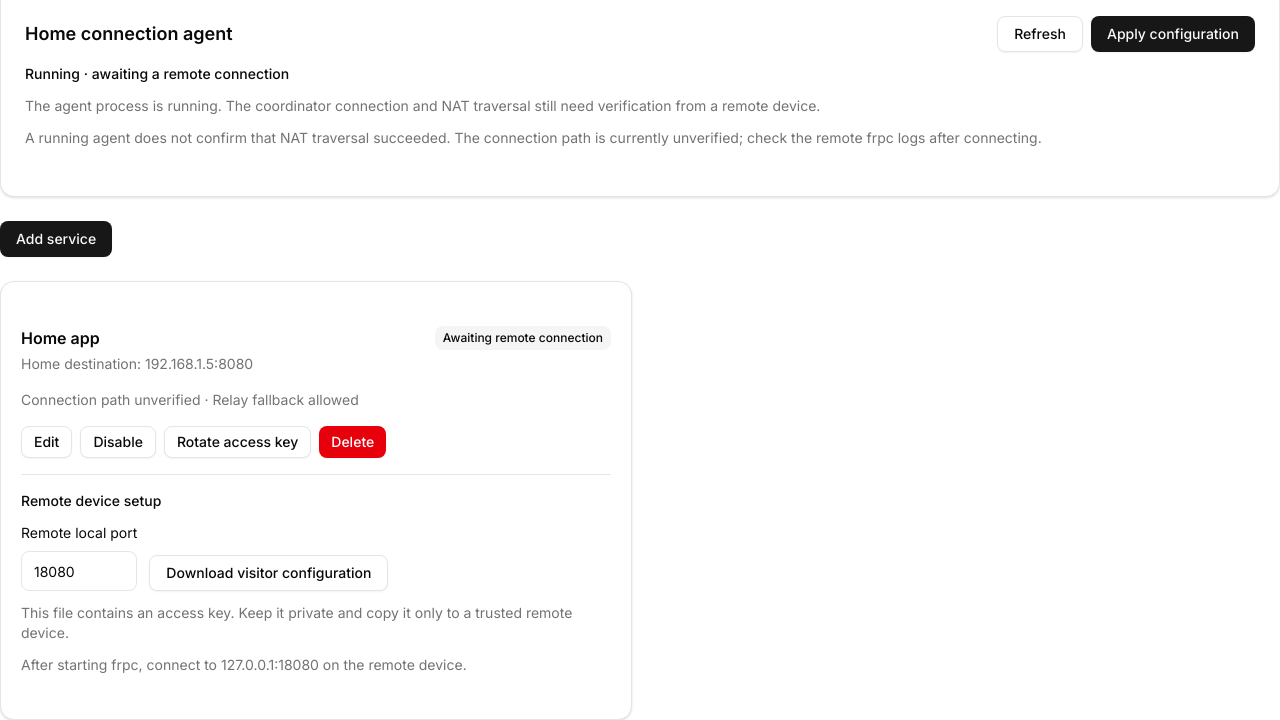
Test: private P2P service management › keeps edits and server errors visible if saving fails
The width and height of the screenshot is (1280, 720).
(page scrolled)
expect the heading "Home app" is shown: met, box top-left (21, 328), bottom-right (100, 348)
Click the button "Edit" at [47, 442], box top-left (21, 426), bottom-right (72, 458)
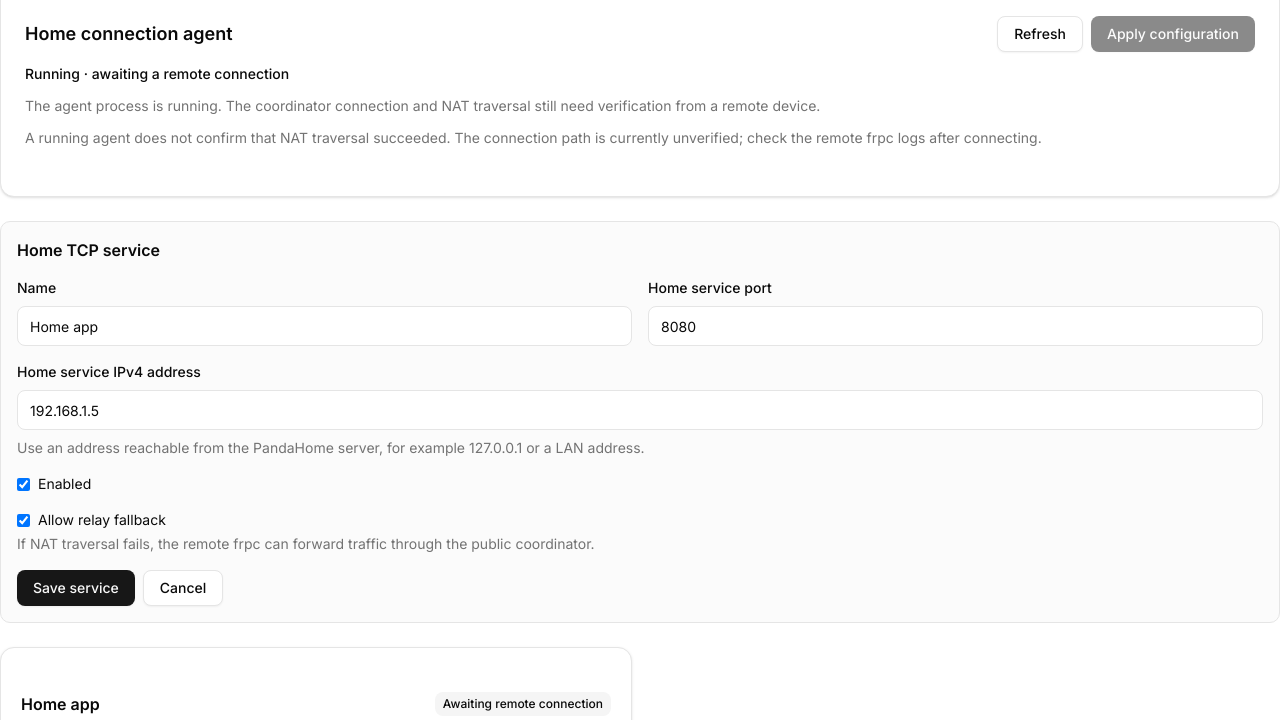
Replace the text in the field labelled "Name" with "Updated app" at [324, 326], box top-left (17, 306), bottom-right (632, 346)
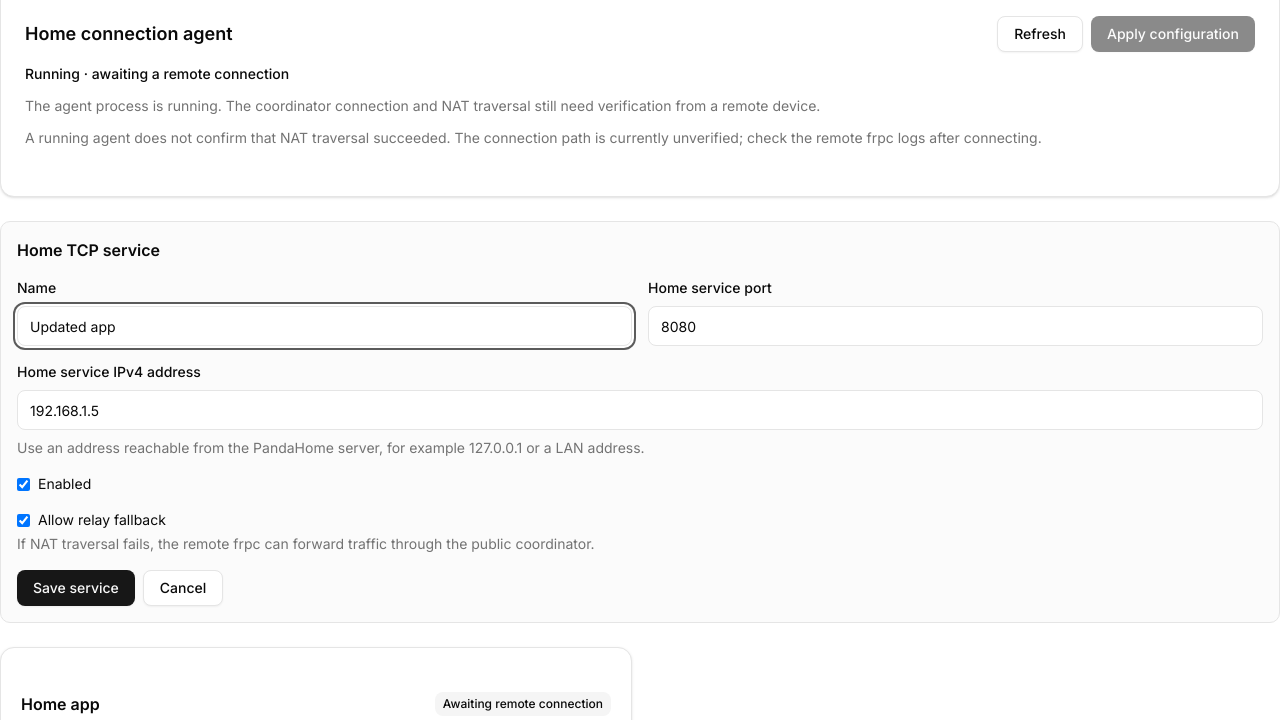
Click the button "Save service" at [76, 588], box top-left (17, 570), bottom-right (135, 606)
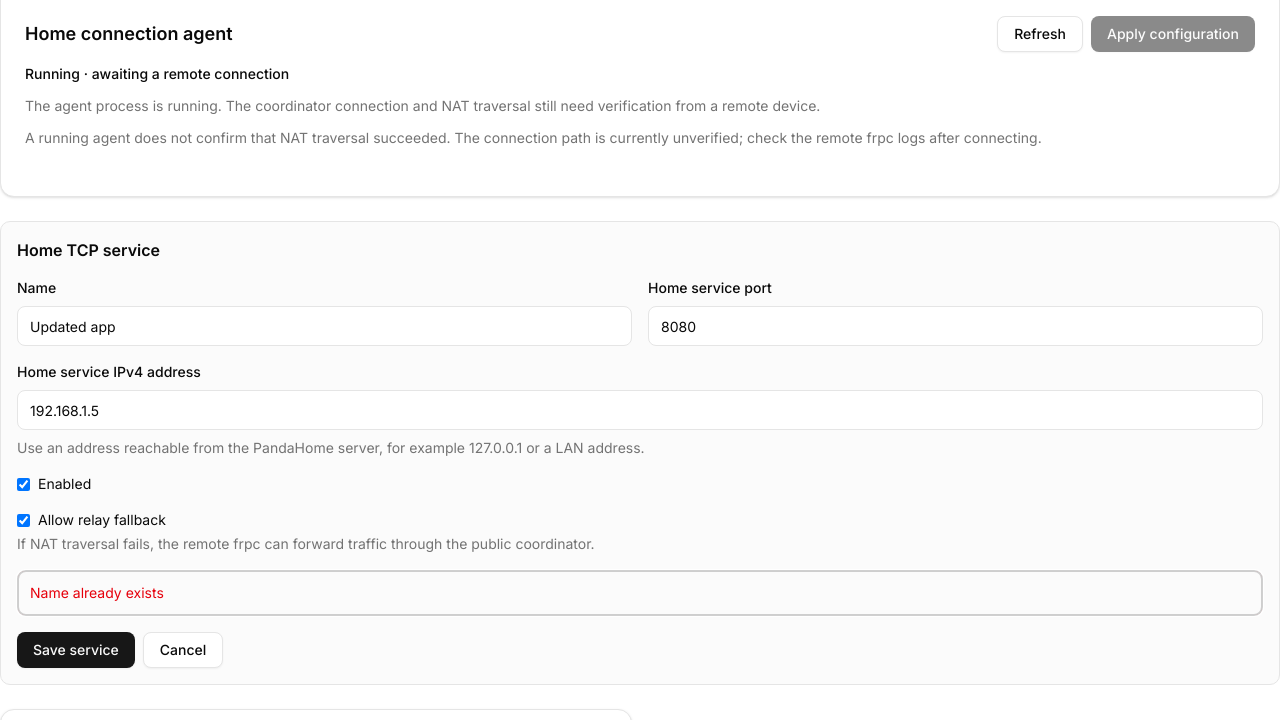
expect the message reads "Name already exists": met, box top-left (30, 584), bottom-right (164, 601)
Click the button "Cancel" at [183, 650], box top-left (143, 632), bottom-right (223, 668)
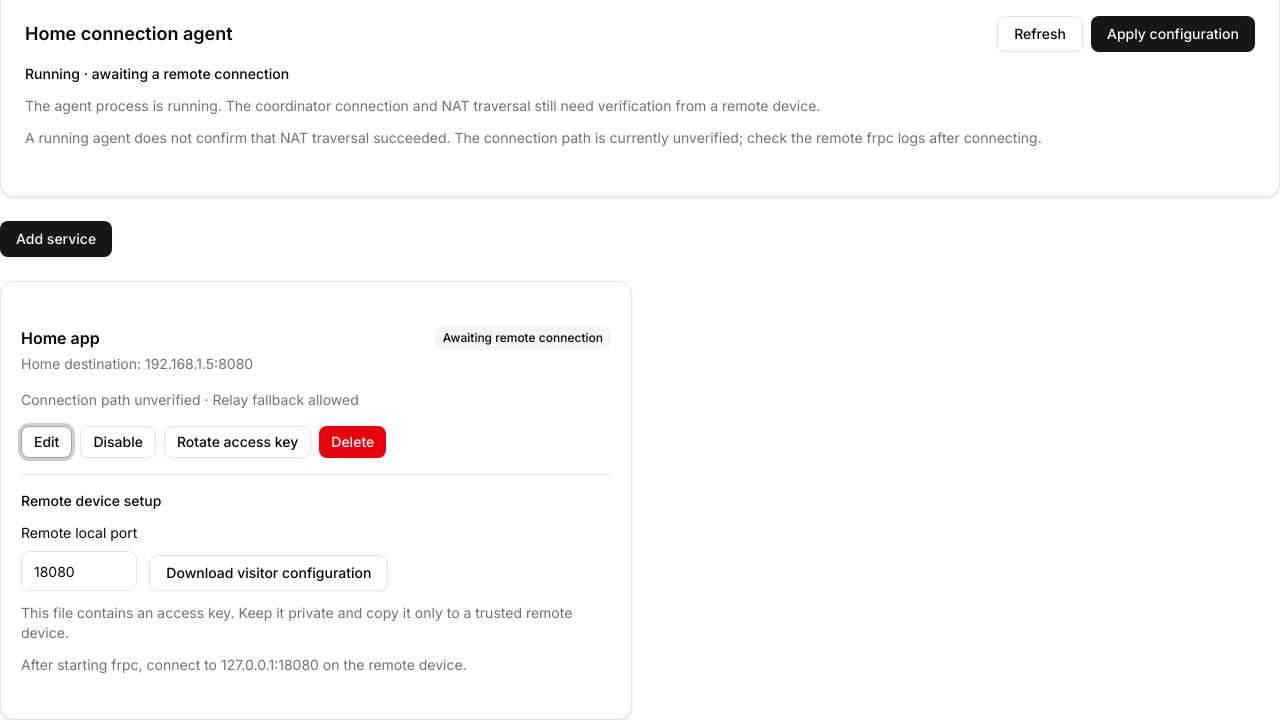
expect the message "Name already exists" is gone: met
